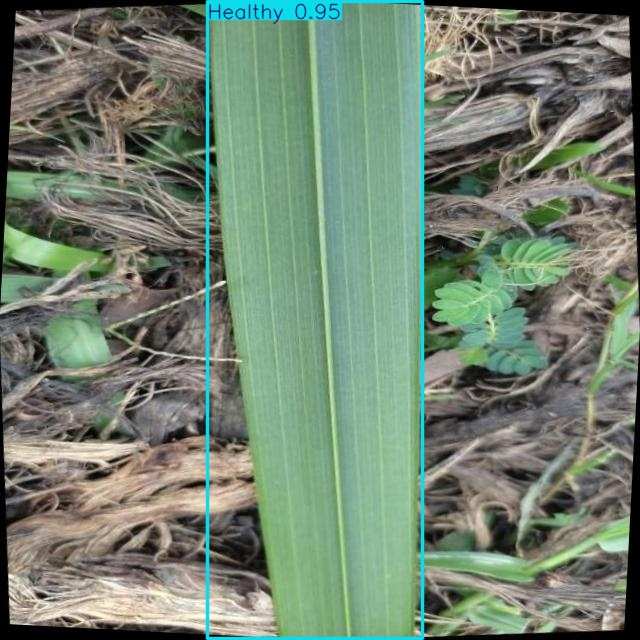Healthy: (207, 2, 423, 639)
